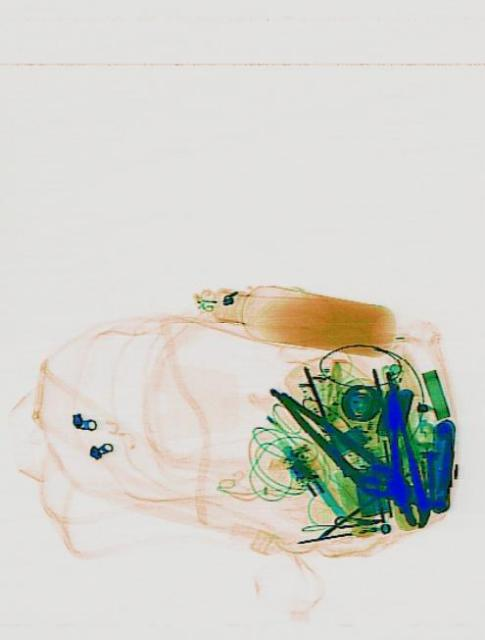Pliers: (257, 369, 413, 517)
